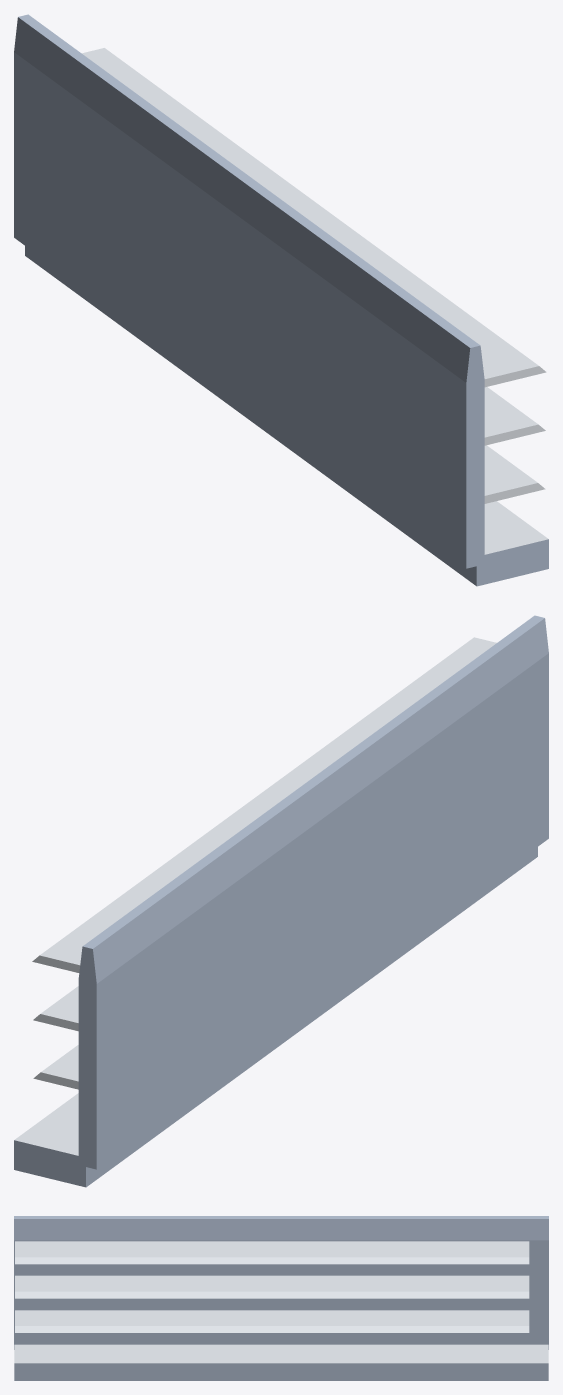
The model's file is shelf.gltf.
The picture shows the model from 3 angles, top to bottom: view 1: azimuth 30°, elevation 25°; view 2: azimuth 150°, elevation 25°; view 3: azimuth 270°, elevation 25°; orthographic projection. The views are drawn at different scales.
Visible parts, largest first — view 1: SI_Prop_Shelf_Isle_End_01; view 2: SI_Prop_Shelf_Isle_End_01; view 3: SI_Prop_Shelf_Isle_End_01.
Part boxes in pixels (x1,y1,x2,y2): SI_Prop_Shelf_Isle_End_01: (14, 14, 548, 586); SI_Prop_Shelf_Isle_End_01: (14, 615, 548, 1187); SI_Prop_Shelf_Isle_End_01: (14, 1216, 548, 1380).
Bounding box in the file's own units: 0.1766 × 0.4891 × 1.67.
Materials: 1 (1 with a texture image).
